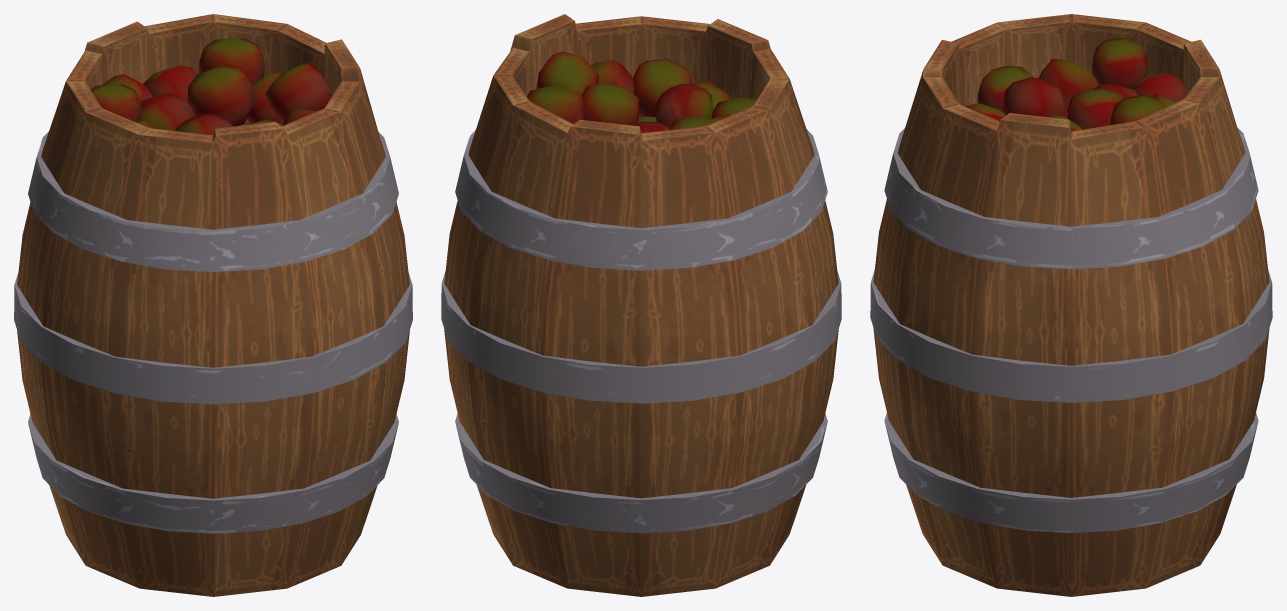
Rendered from barrel-apples.glb.
The picture shows the model from 3 angles, left to right: view 1: azimuth 30°, elevation 25°; view 2: azimuth 150°, elevation 25°; view 3: azimuth 270°, elevation 25°; orthographic projection.
Parts seen in each view (by area): view 1: Barrel_Apples; view 2: Barrel_Apples; view 3: Barrel_Apples.
Part boxes in pixels (left/top/right/bottom): Barrel_Apples: left=14, top=14, right=412, bottom=596; Barrel_Apples: left=441, top=14, right=841, bottom=596; Barrel_Apples: left=870, top=14, right=1272, bottom=596.
Bounding box in the file's own units: 0.698 × 0.898 × 0.698.
Materials: 3 (3 with a texture image).
